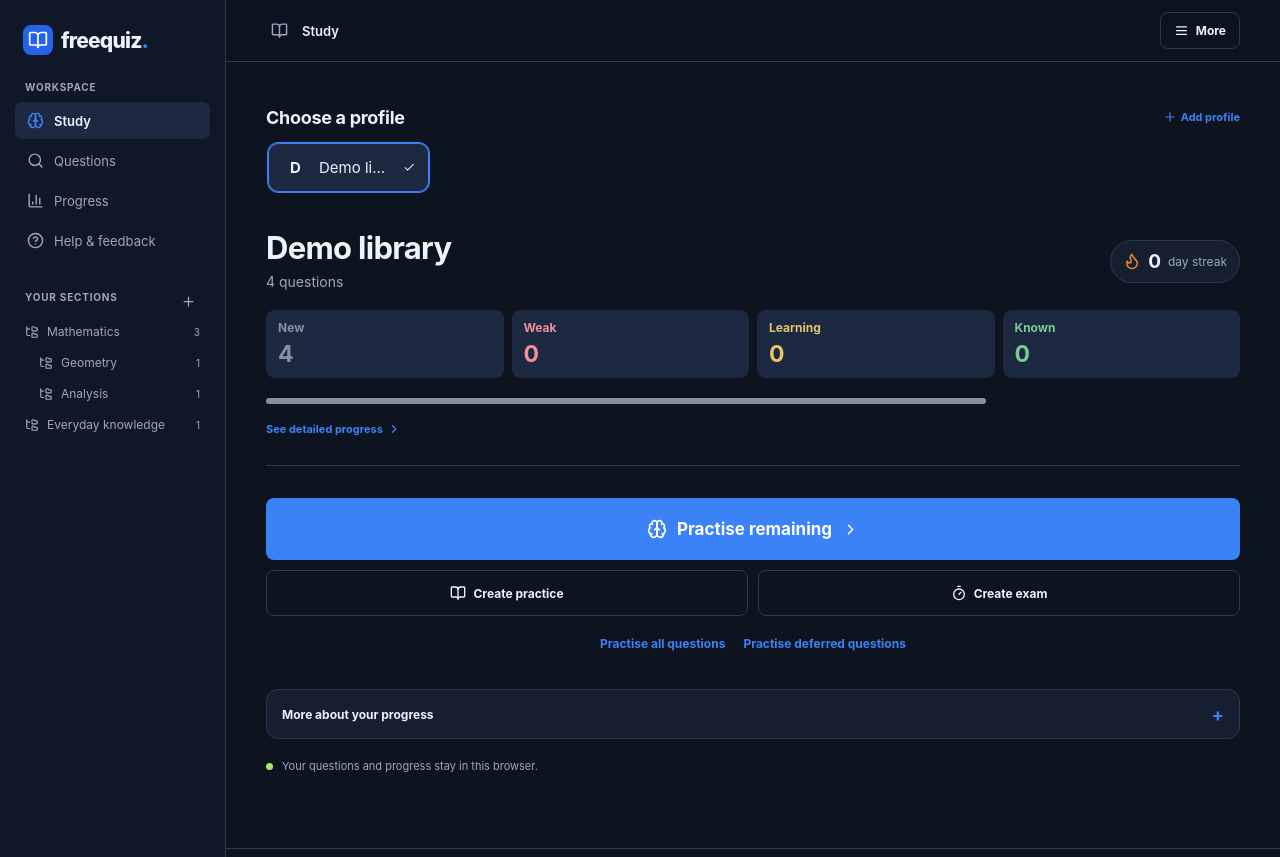
Scenario: Request 004 features › generates a reusable prompt without a source field
This screenshot has width=1280, height=857.
Click the button with aria-label "Menu": (1200,30) [1160,12,1240,49]
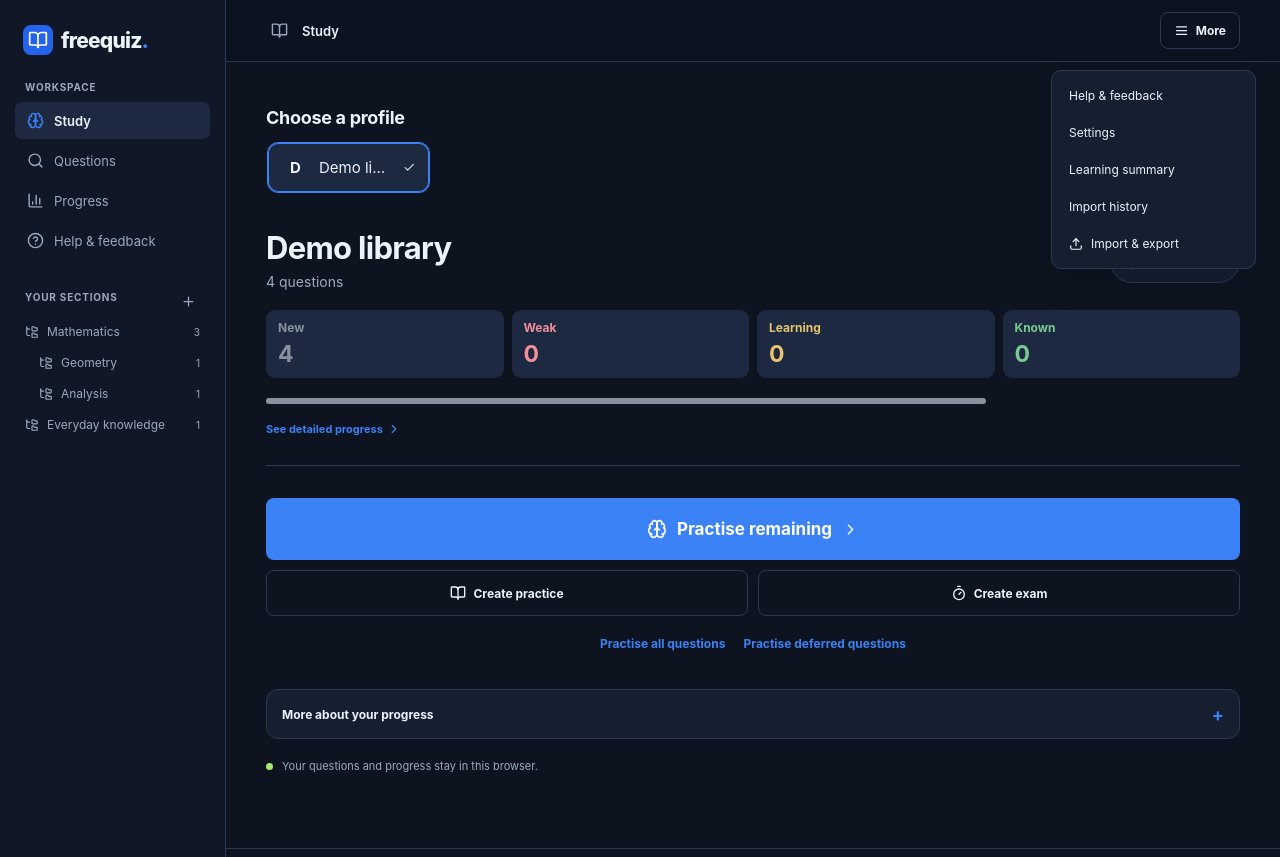
Click the button "Import & export": (1146,244) [1059,226,1233,261]
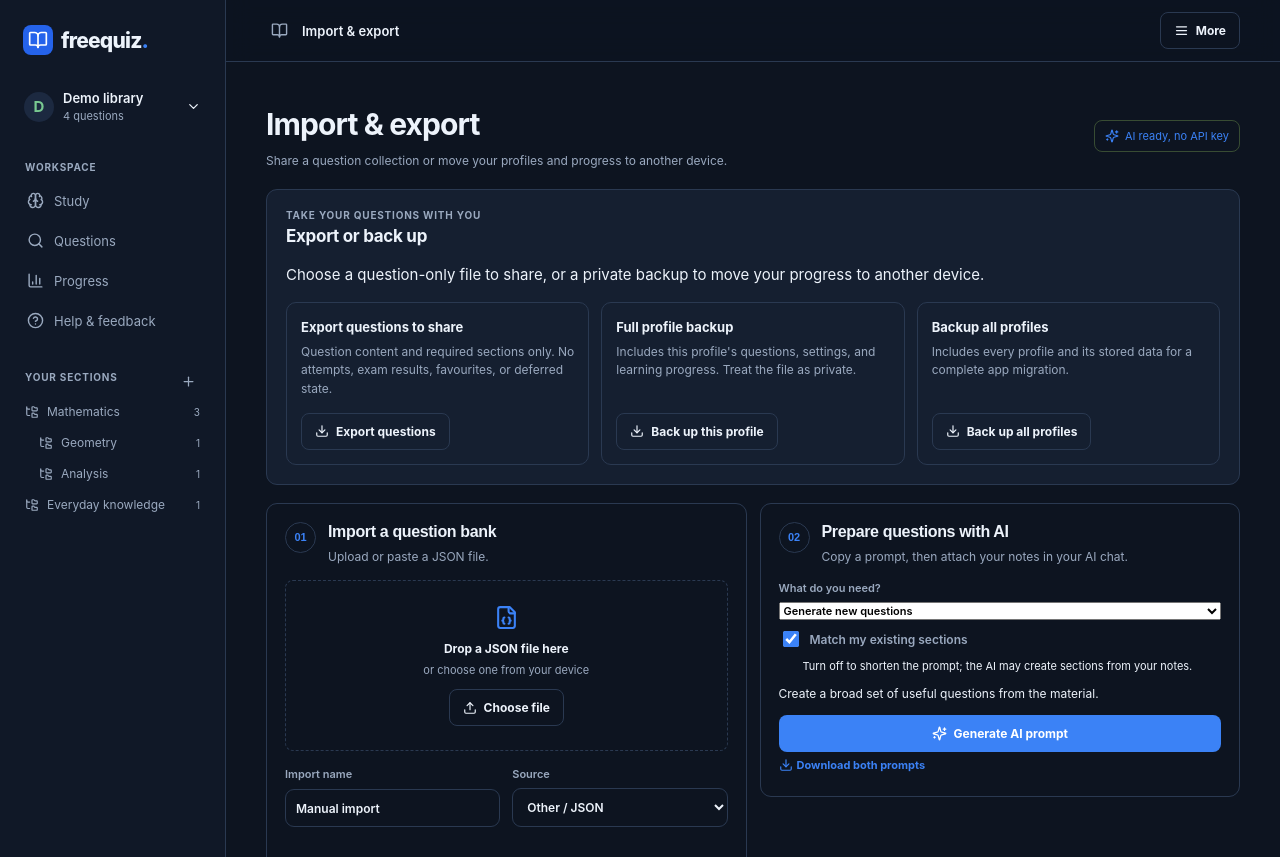
Check: the field labelled "Source material" is not shown
Click the button "Generate AI prompt": (1000,734) [778,715,1221,752]
(page scrolled)
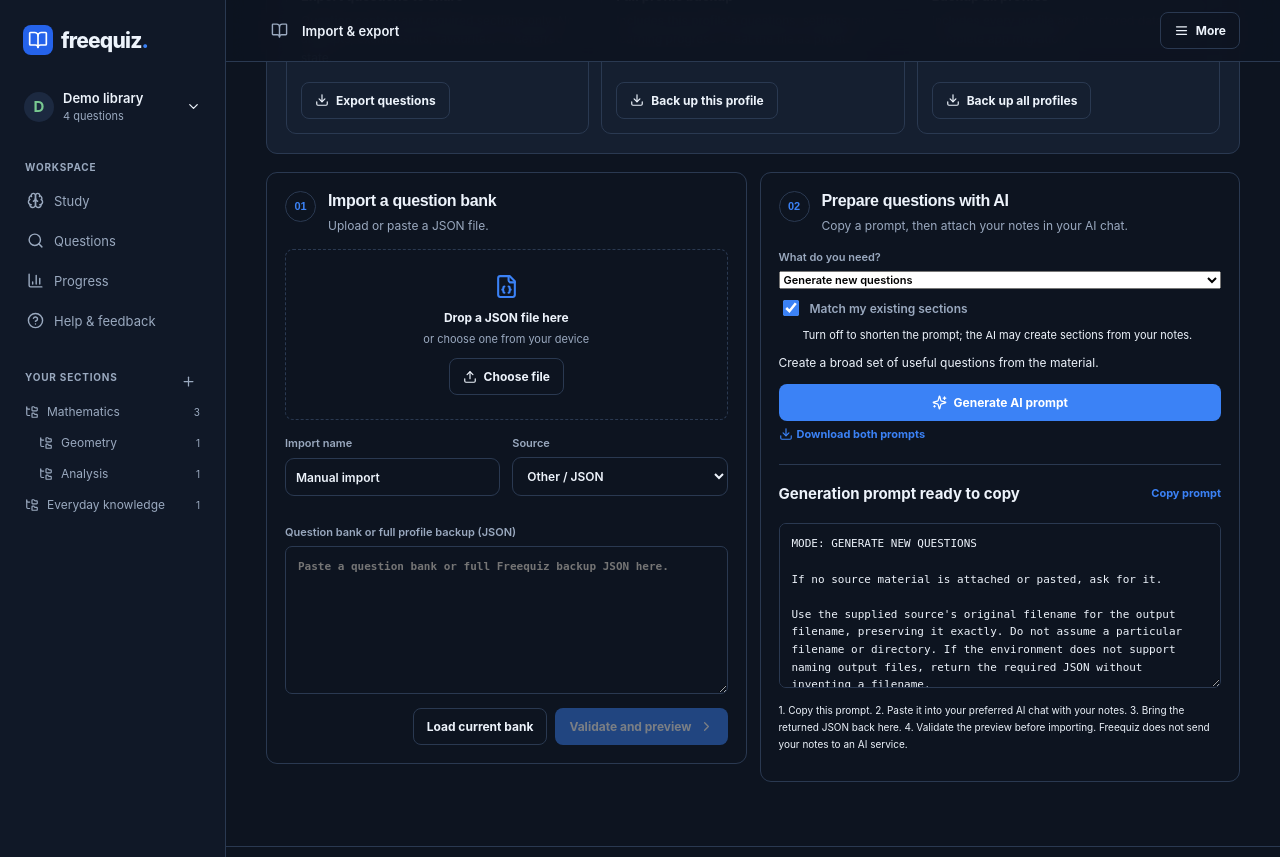
Check: the text box showing "MODE: GENERATE NEW QUESTIONS" is shown, box [778,523,1221,688]
